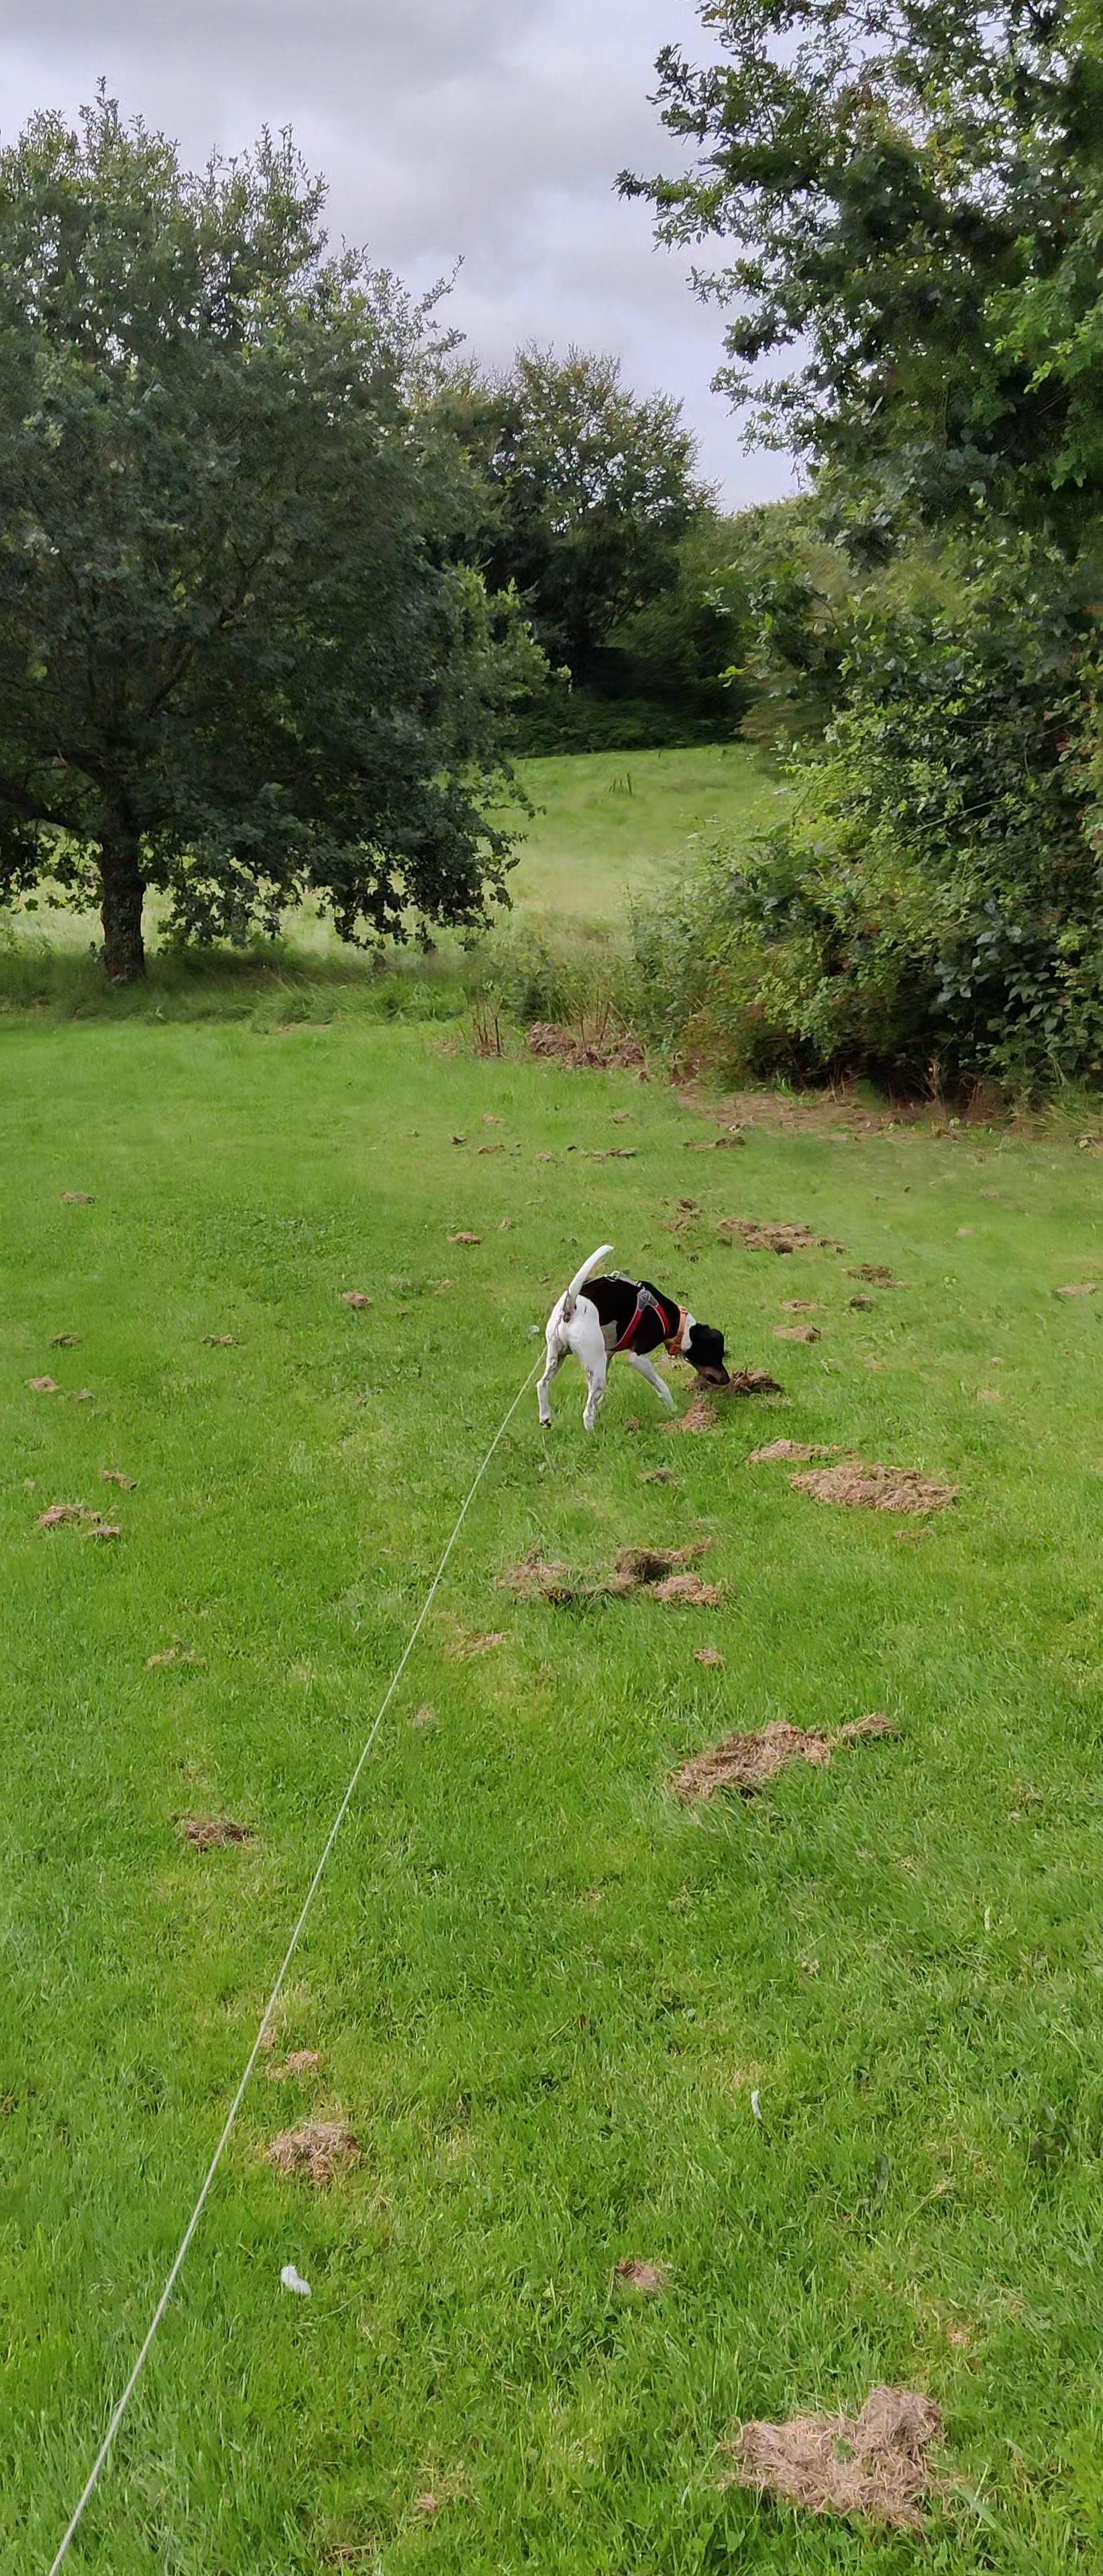Dog: (533, 1240, 735, 1436)
